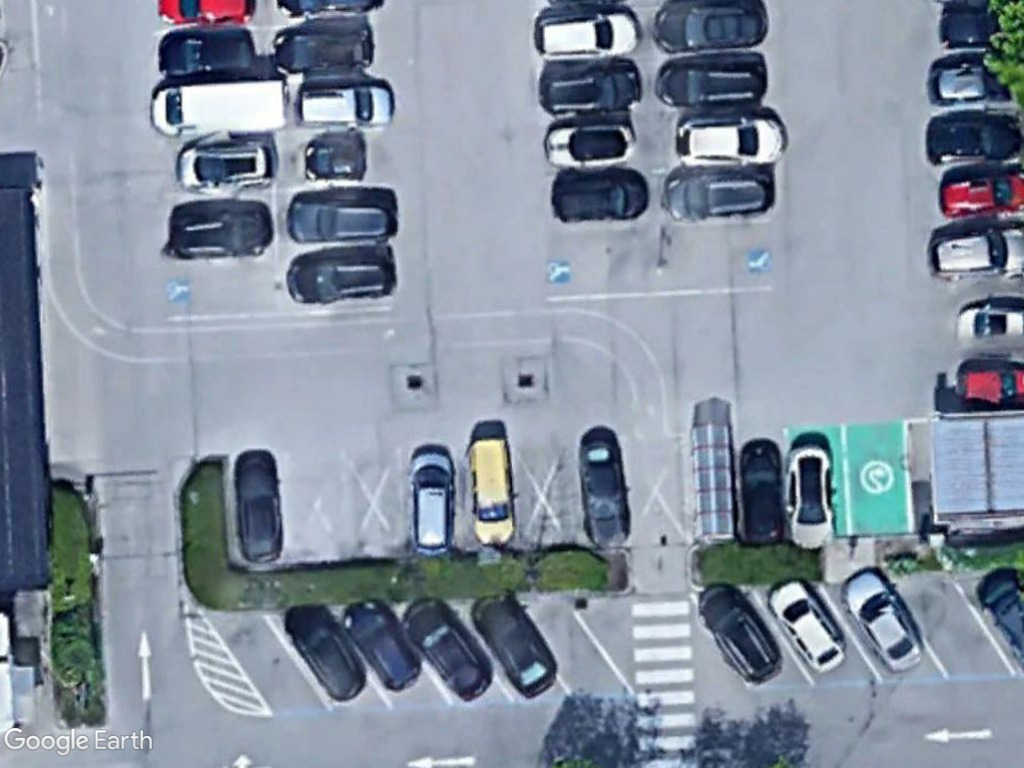car: (468, 588, 562, 703), (400, 593, 496, 703), (279, 593, 369, 704), (841, 564, 925, 676), (695, 579, 782, 686), (343, 597, 427, 695), (767, 575, 846, 675), (651, 0, 776, 55), (670, 113, 792, 169), (283, 253, 405, 308), (166, 201, 277, 261), (577, 436, 635, 550), (234, 451, 288, 570), (659, 169, 777, 223), (654, 56, 770, 110), (404, 449, 461, 556), (786, 440, 839, 554), (540, 61, 647, 117), (531, 10, 644, 63), (926, 110, 1024, 170), (281, 195, 400, 244), (737, 440, 790, 549), (172, 143, 282, 195), (293, 80, 401, 132), (549, 174, 654, 226), (156, 31, 260, 80), (269, 29, 377, 75), (542, 121, 638, 167)
van: (147, 75, 290, 140), (464, 433, 517, 548)
